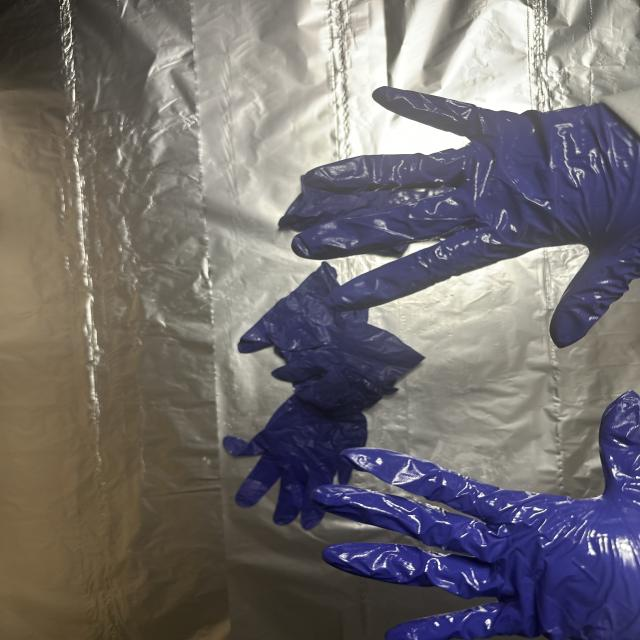gloves_contaminated: (288, 87, 640, 347), (314, 391, 640, 640)
